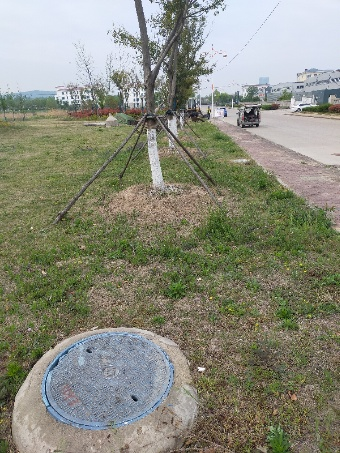good: (39, 326, 176, 429)
